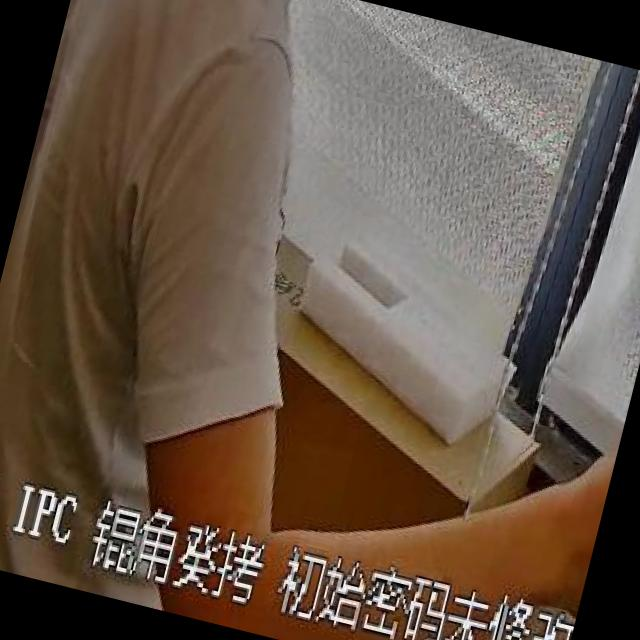Guns: (581, 296, 640, 533)
